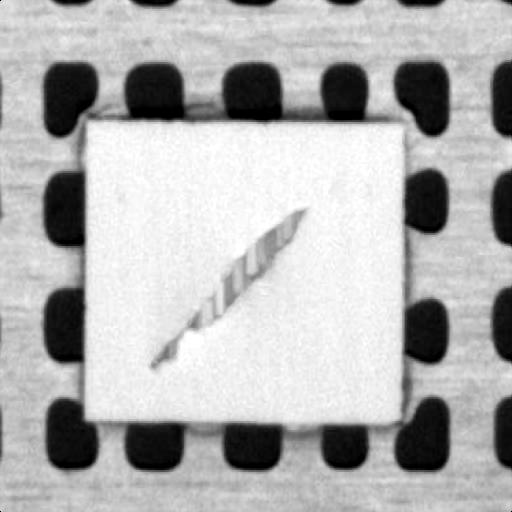DIE_INK: (142, 202, 304, 370)
